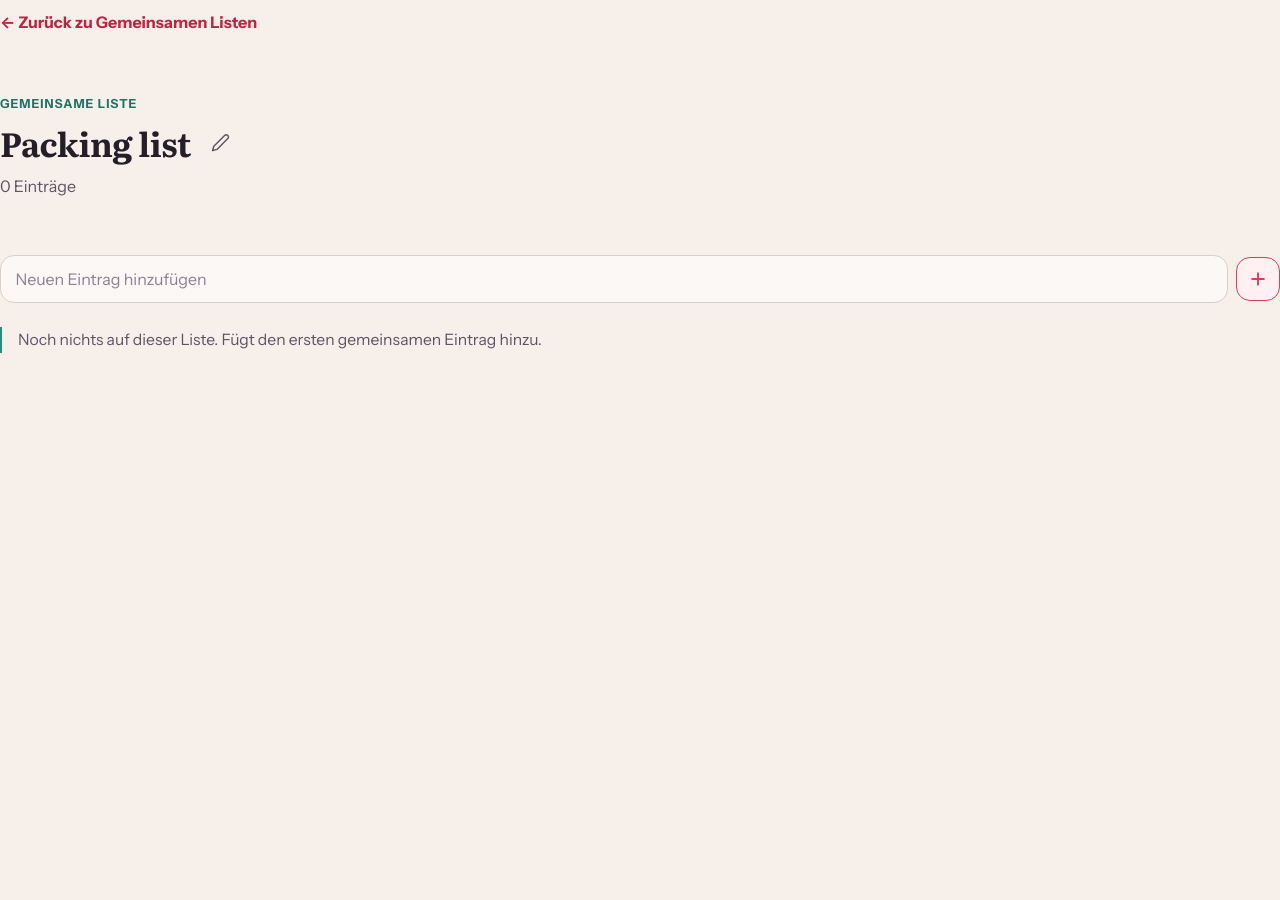
CollectionProductPage › focuses the editor and protects a dirty draft through Escape
The width and height of the screenshot is (1280, 900).
Step 1. Click the button named "Bearbeiten" → {"x": 221, "y": 143}, box x1=199 y1=121 x2=243 y2=165
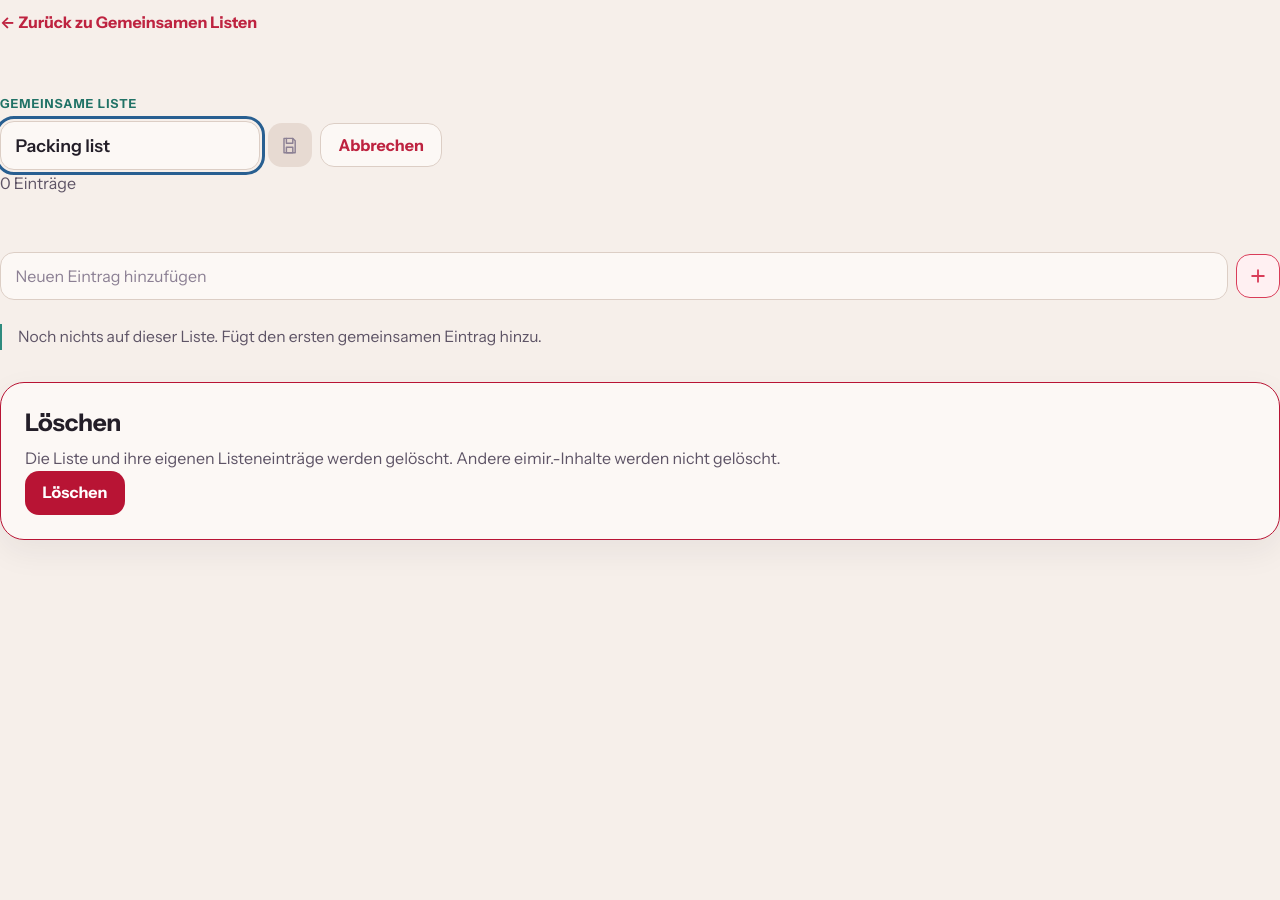
Step 2. Replace the text in the field named "Titel" with "Holiday packing" → {"x": 130, "y": 145}, box x1=0 y1=121 x2=260 y2=170
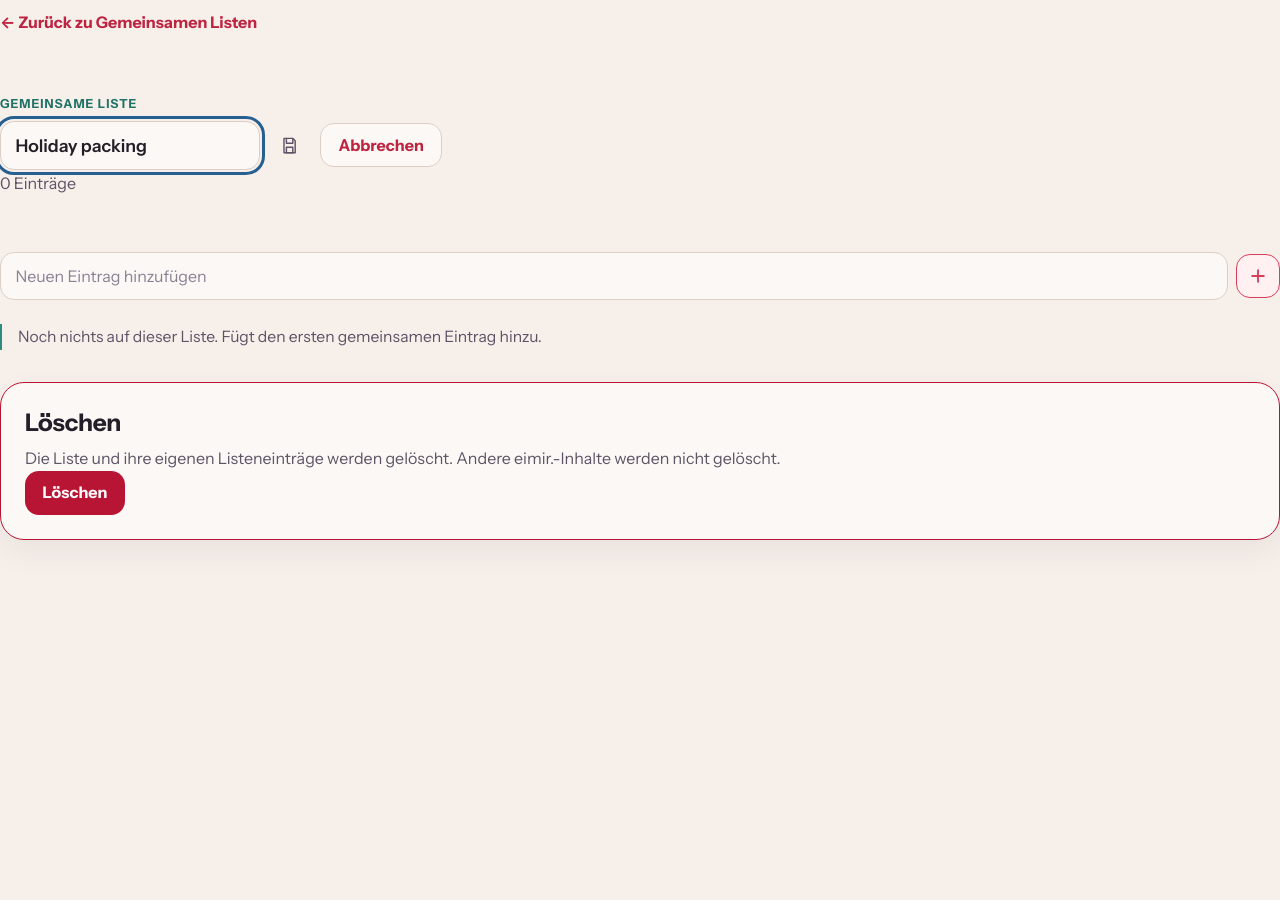
Step 3. Press Escape
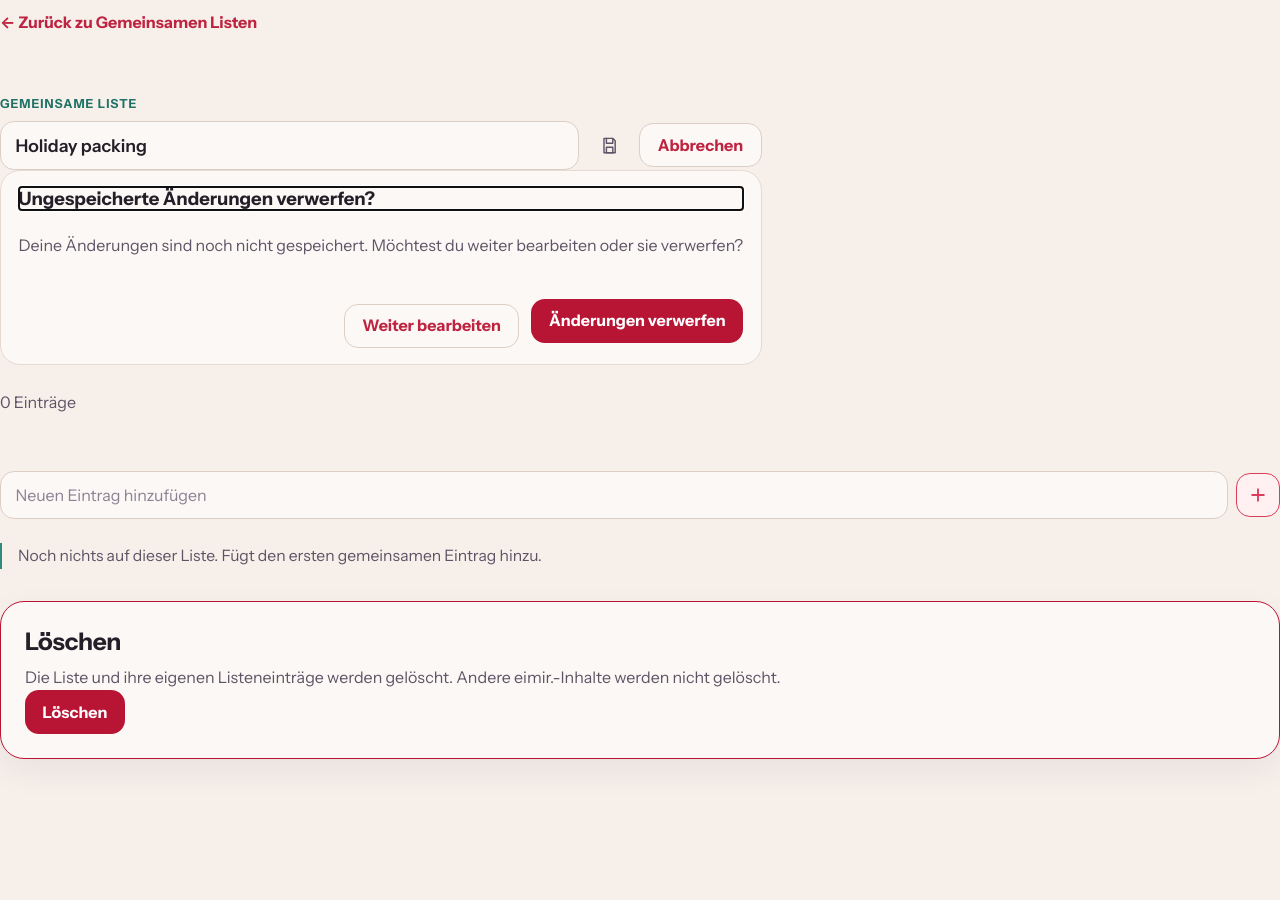
Step 4. Click the button "Weiter bearbeiten" → {"x": 432, "y": 326}, box x1=344 y1=304 x2=519 y2=348
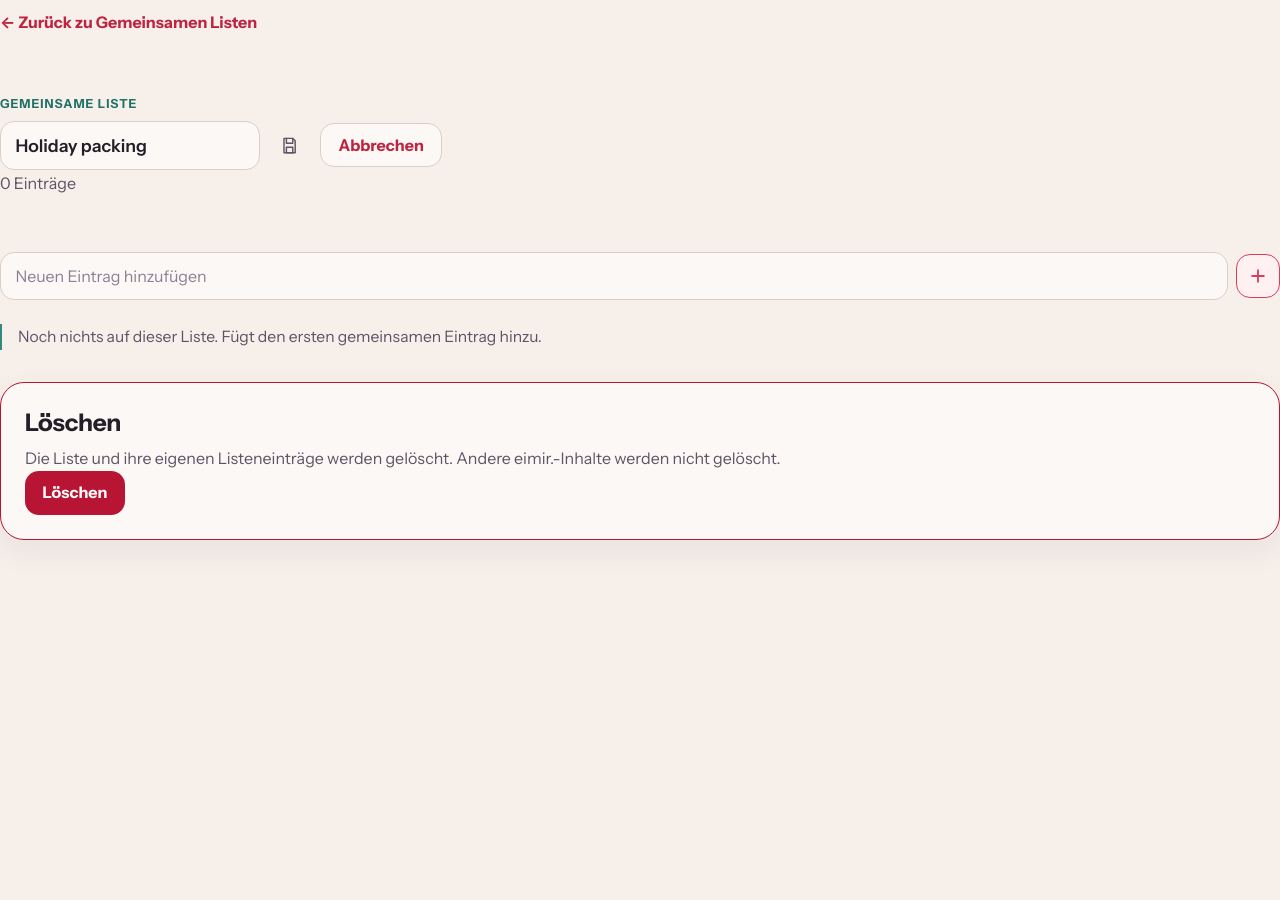
Step 5. Press Escape
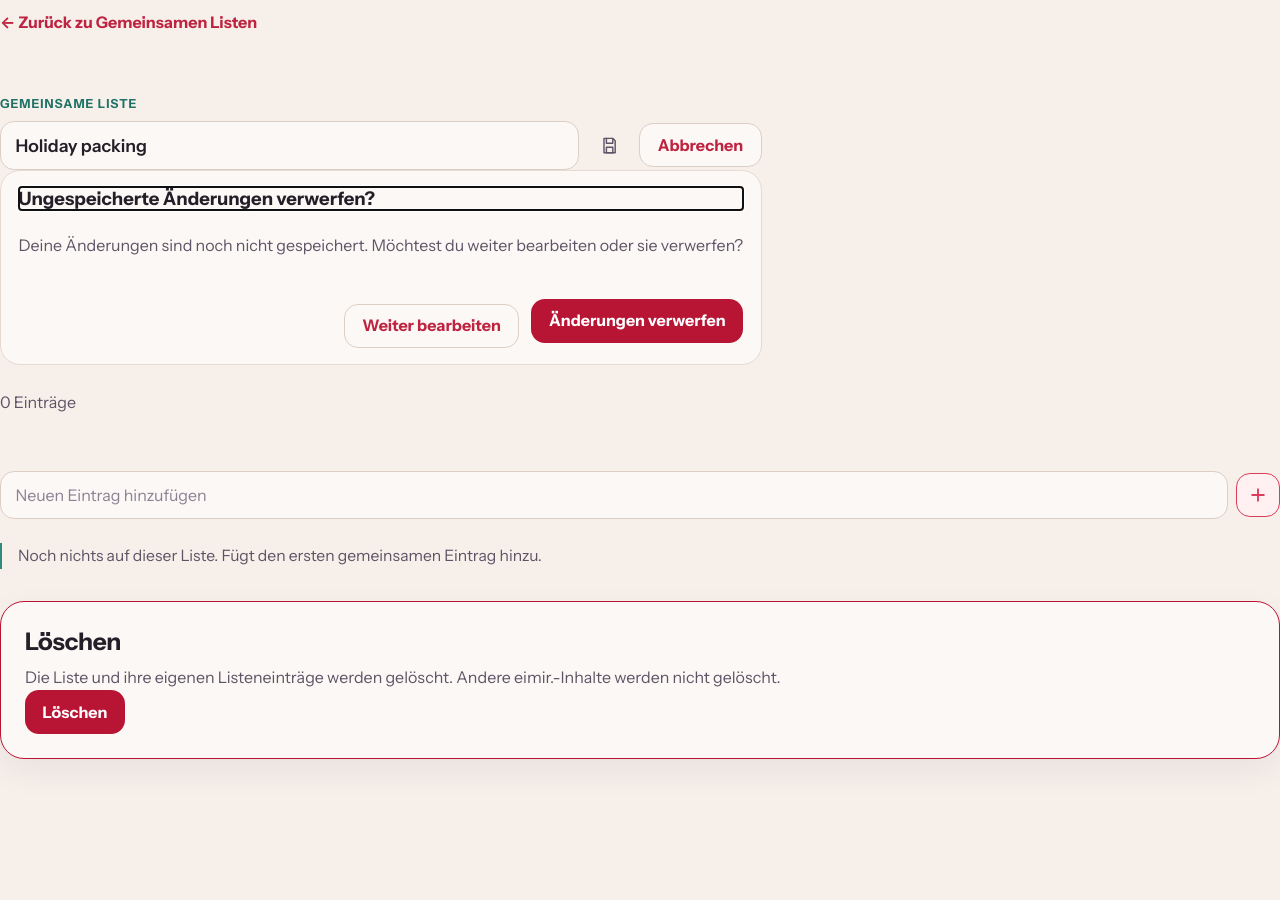
Step 6. Click the button "Änderungen verwerfen" → {"x": 637, "y": 321}, box x1=531 y1=299 x2=743 y2=343
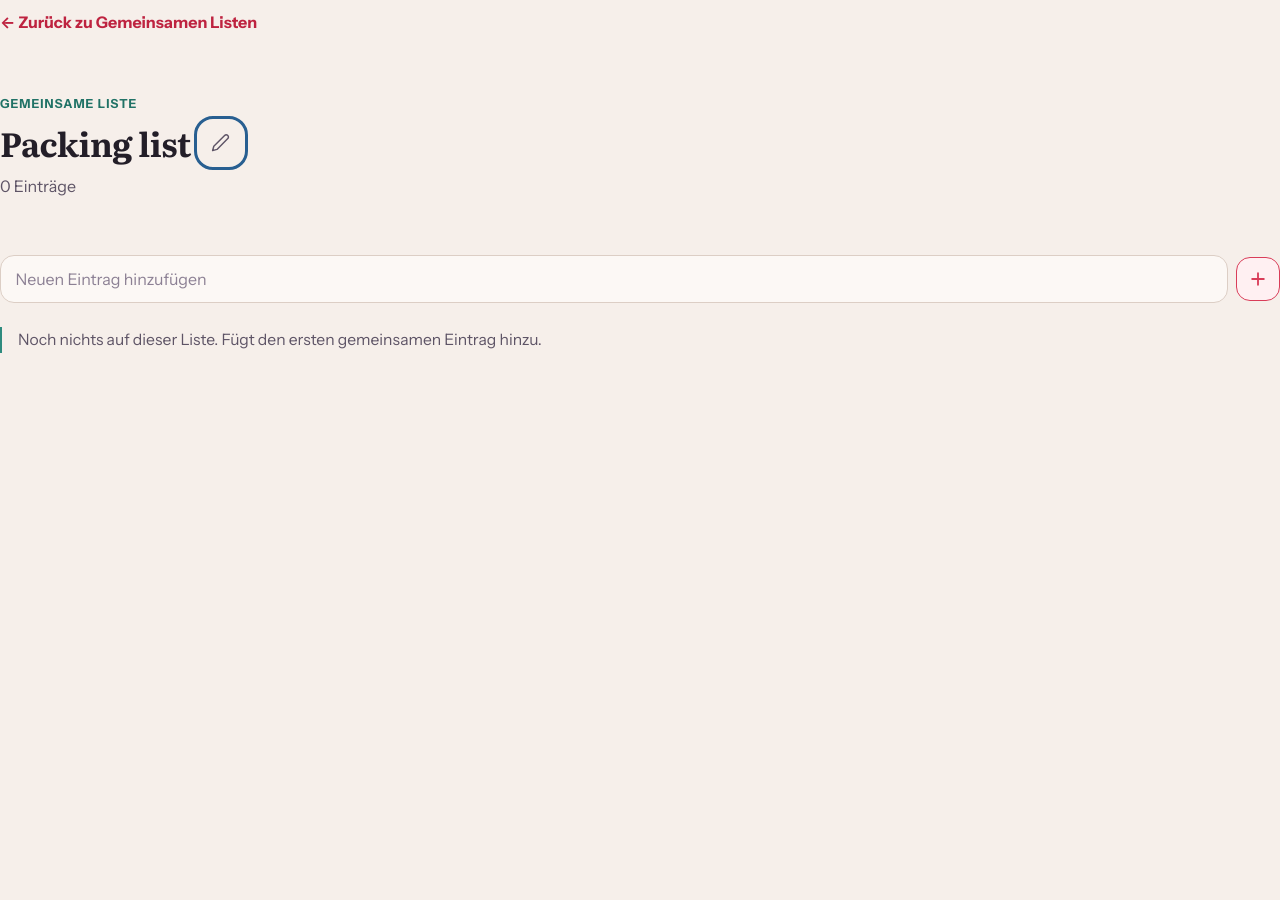
Expected: the dialog is gone
